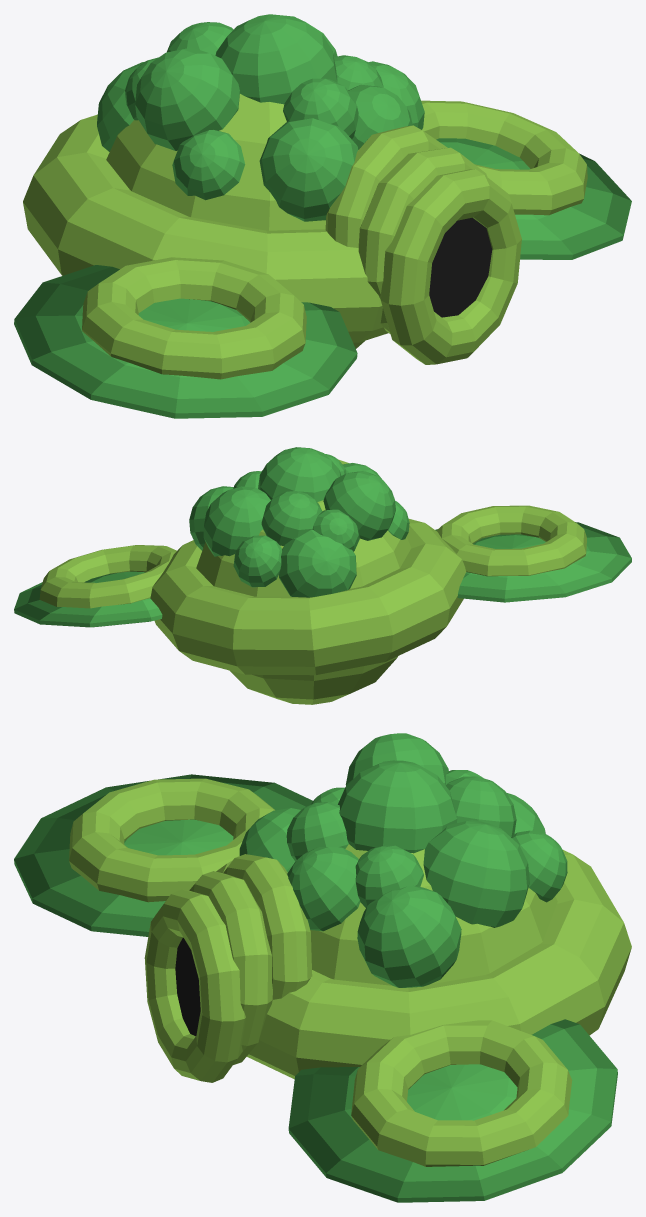
3 renders of one model, top to bottom at view 1: azimuth 30°, elevation 25°; view 2: azimuth 150°, elevation 25°; view 3: azimuth 270°, elevation 25°, orthographic. The views are drawn at different scales.
Parts seen in each view (by area): view 1: mesh_56660391, mesh_780532388, mesh_131260485, mesh_1283628519, mesh_476264904, mesh_1141610755, mesh_1189763888, mesh_1480812433, mesh_1512600639, mesh_26573203, mesh_1092801598, mesh_1724401952 (+9 smaller); view 2: mesh_56660391, mesh_476264904, mesh_131260485, mesh_780532388, mesh_1141610755, mesh_1170929825, mesh_1480812433, mesh_1189763888, mesh_1763010665, mesh_1512600639, mesh_148138, mesh_242049285 (+3 smaller); view 3: mesh_56660391, mesh_1480812433, mesh_1141610755, mesh_131260485, mesh_780532388, mesh_1283628519, mesh_1763010665, mesh_1394816546, mesh_1512600639, mesh_476264904, mesh_1092801598, mesh_1724401952 (+9 smaller).
Boxes of the visible parts, x1=… form: mesh_56660391: x1=23, y1=114, x2=388, y2=342; mesh_780532388: x1=14, y1=265, x2=357, y2=418; mesh_131260485: x1=82, y1=257, x2=306, y2=379; mesh_1283628519: x1=380, y1=169, x2=521, y2=364; mesh_476264904: x1=106, y1=94, x2=364, y2=348; mesh_1141610755: x1=421, y1=100, x2=587, y2=215; mesh_1189763888: x1=135, y1=47, x2=239, y2=150; mesh_1480812433: x1=436, y1=138, x2=631, y2=259; mesh_1512600639: x1=215, y1=14, x2=337, y2=104; mesh_26573203: x1=259, y1=118, x2=358, y2=221; mesh_1092801598: x1=358, y1=147, x2=487, y2=333; mesh_1724401952: x1=325, y1=125, x2=447, y2=247; mesh_56660391: x1=150, y1=519, x2=465, y2=675; mesh_476264904: x1=196, y1=500, x2=411, y2=704; mesh_131260485: x1=436, y1=505, x2=586, y2=576; mesh_780532388: x1=435, y1=522, x2=631, y2=602; mesh_1141610755: x1=39, y1=545, x2=176, y2=608; mesh_1170929825: x1=279, y1=529, x2=356, y2=597; mesh_1480812433: x1=14, y1=571, x2=162, y2=627; mesh_1189763888: x1=323, y1=471, x2=395, y2=540; mesh_1763010665: x1=203, y1=486, x2=270, y2=556; mesh_1512600639: x1=258, y1=447, x2=341, y2=501; mesh_148138: x1=261, y1=491, x2=322, y2=545; mesh_242049285: x1=233, y1=535, x2=281, y2=587; mesh_56660391: x1=216, y1=850, x2=631, y2=1079; mesh_1480812433: x1=288, y1=1019, x2=617, y2=1202; mesh_1141610755: x1=351, y1=1020, x2=572, y2=1166; mesh_131260485: x1=69, y1=778, x2=274, y2=902; mesh_780532388: x1=14, y1=774, x2=312, y2=936; mesh_1283628519: x1=144, y1=889, x2=245, y2=1082; mesh_1763010665: x1=423, y1=820, x2=529, y2=927; mesh_1394816546: x1=357, y1=885, x2=461, y2=987; mesh_1512600639: x1=338, y1=760, x2=457, y2=853; mesh_476264904: x1=310, y1=844, x2=557, y2=985; mesh_1092801598: x1=189, y1=871, x2=272, y2=1064; mesh_1724401952: x1=223, y1=854, x2=312, y2=999.
Bounding box in the file's own units: 167 × 77.7 × 129.
